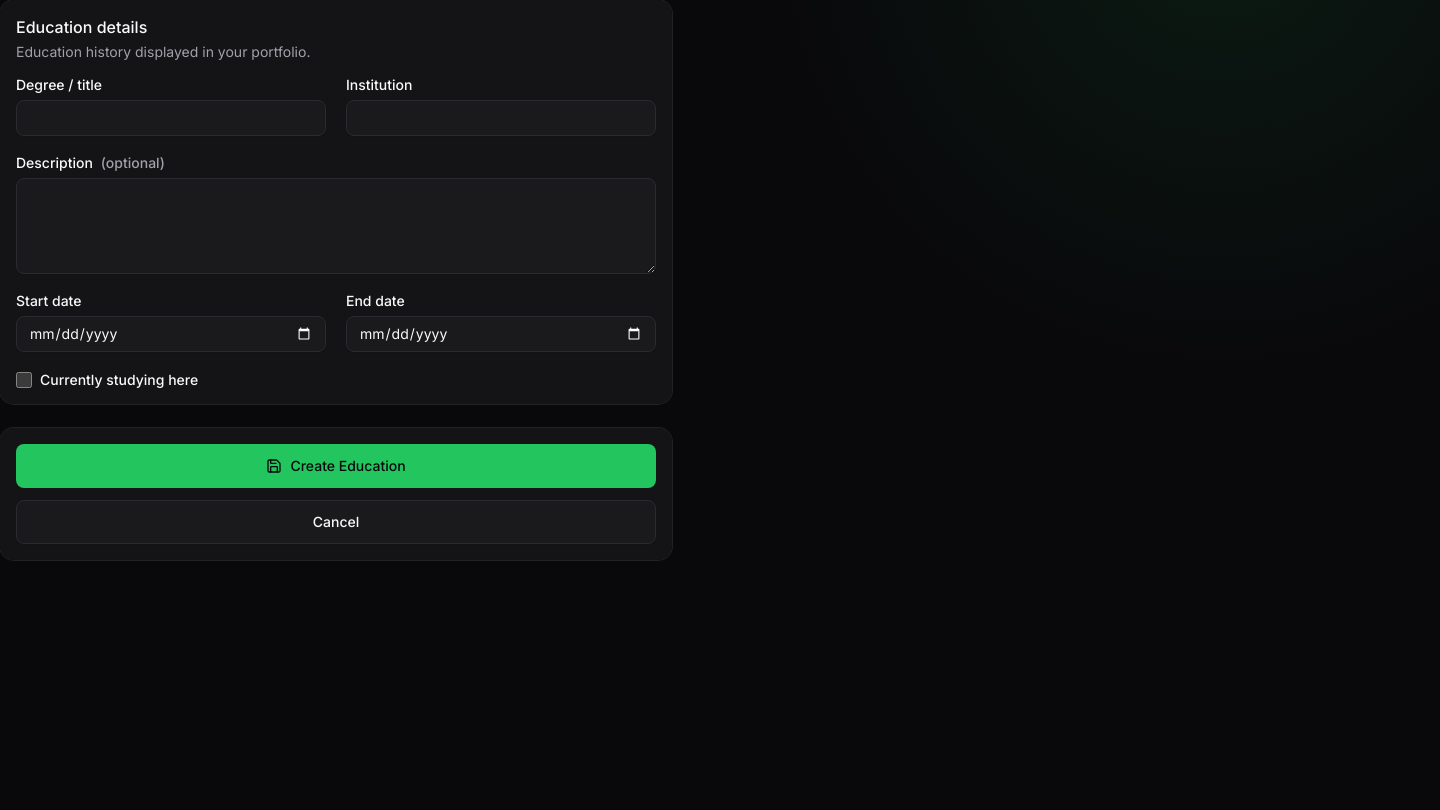
Test: EducationForm › blocks submission when title is empty
The width and height of the screenshot is (1440, 810).
Click the button "Create Education" at (336, 466), box [16, 444, 656, 488]
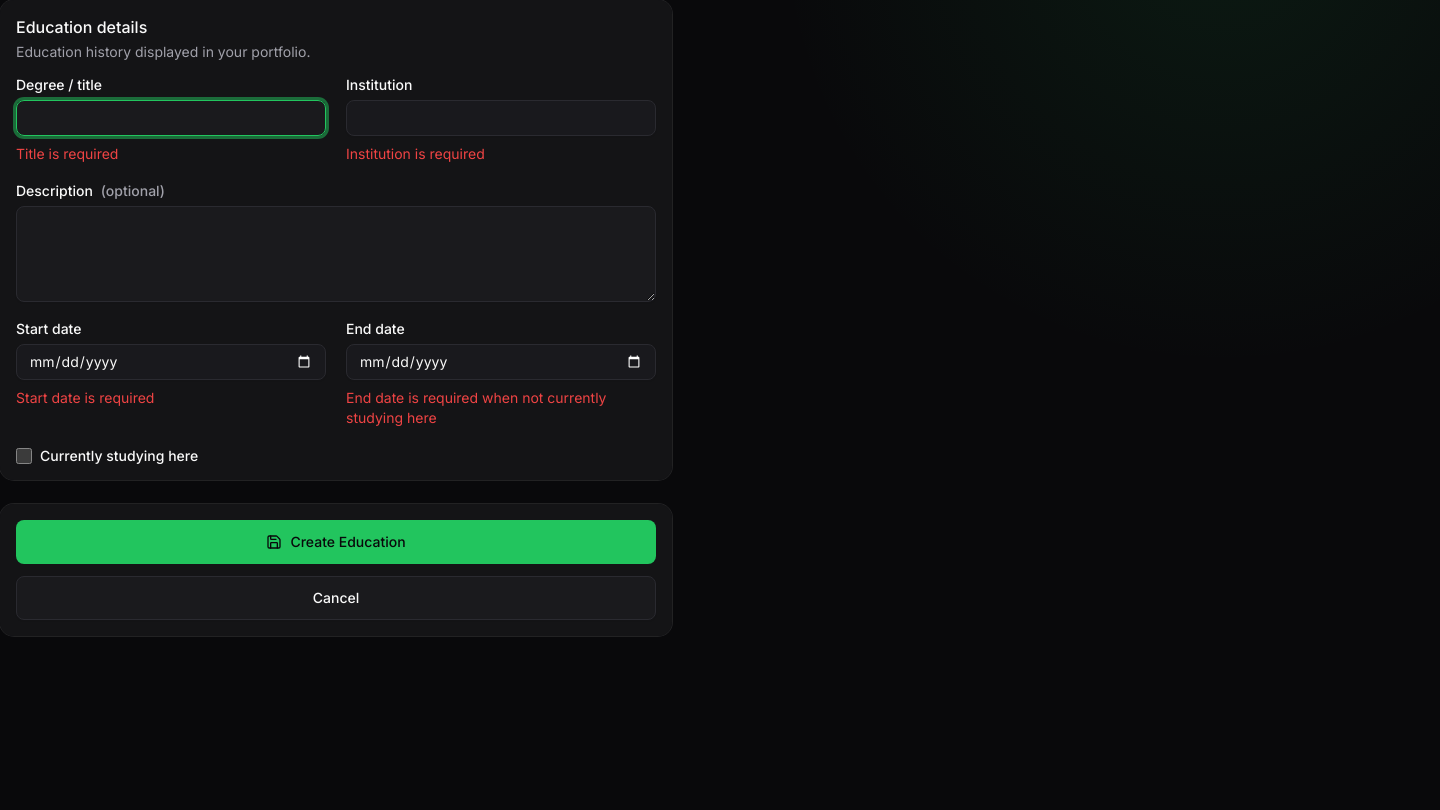
Check: the text "Title is required" is shown, box [16, 145, 118, 162]
